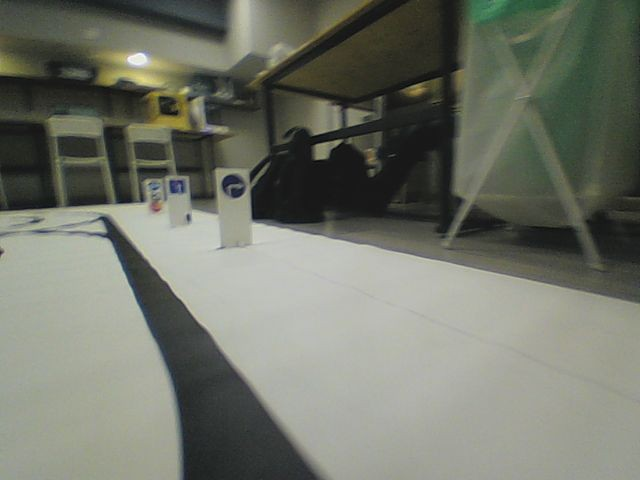Right: (220, 173, 247, 199)
